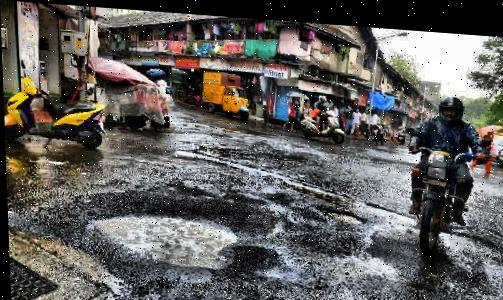pothole: (83, 201, 246, 267), (365, 196, 418, 220), (319, 199, 365, 220)
